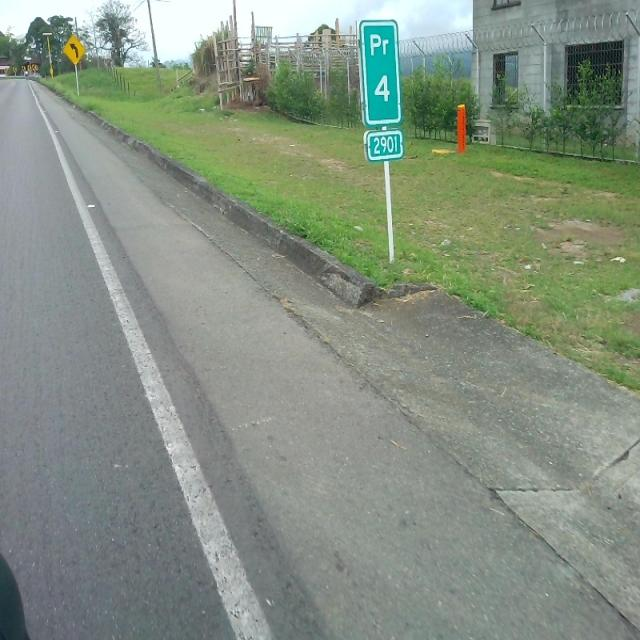DITCH: (12, 75, 638, 638)
